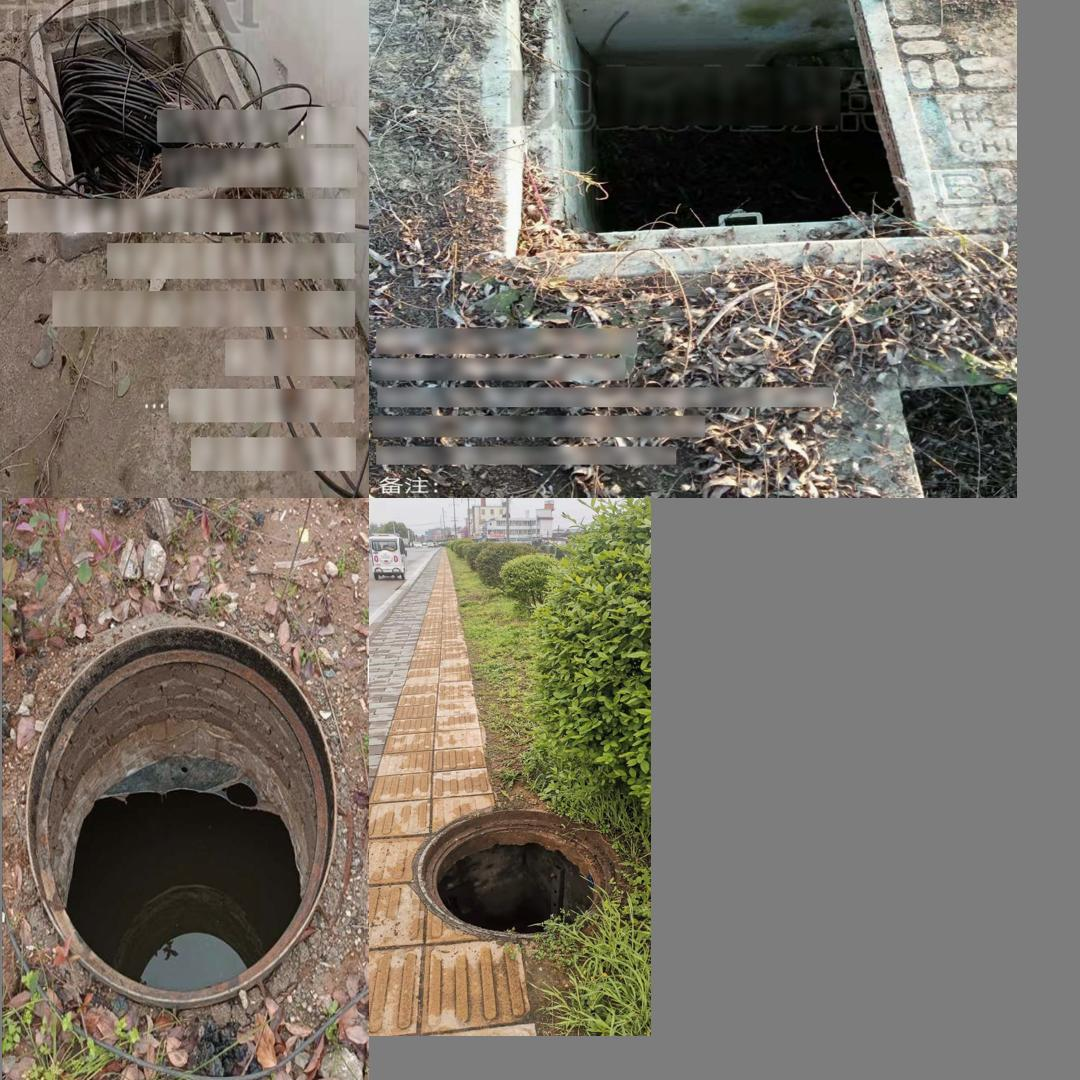lose: (482, 0, 942, 275), (24, 615, 341, 1012), (27, 0, 285, 263), (414, 807, 617, 939)
